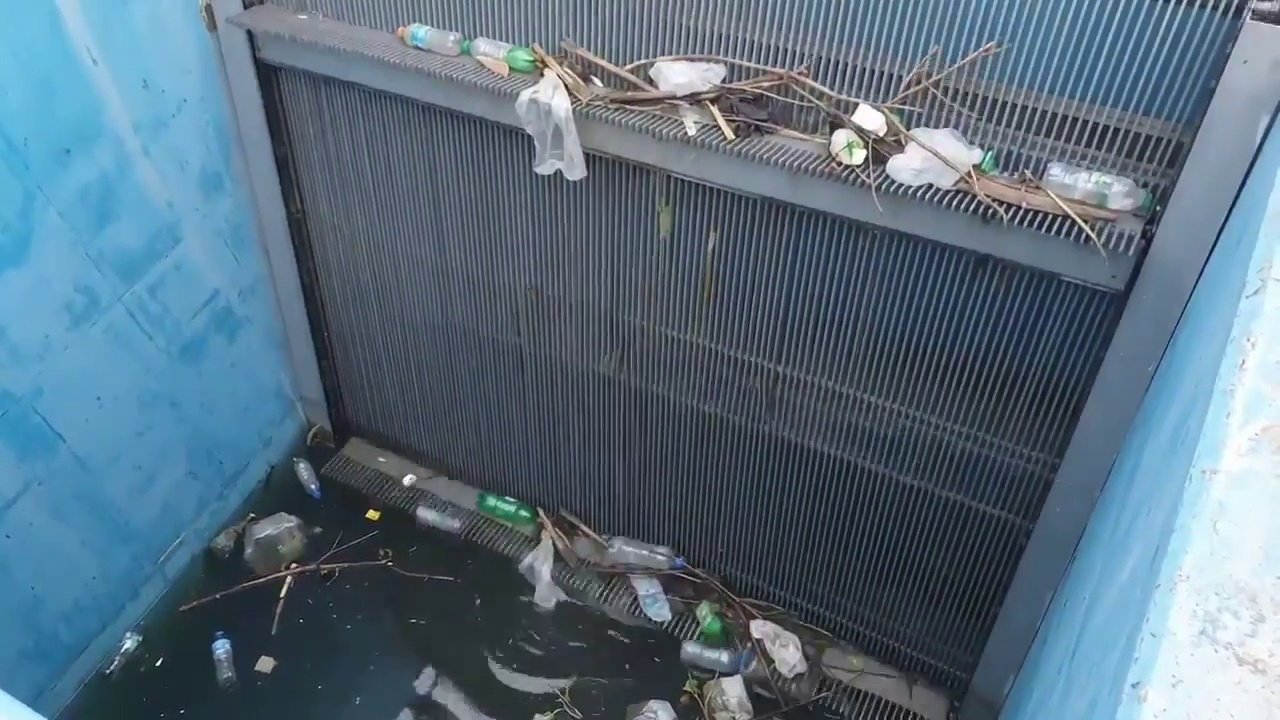debris: (532, 40, 1115, 227), (561, 510, 834, 712), (648, 562, 836, 719), (560, 510, 715, 611), (179, 557, 455, 611), (886, 114, 1006, 221), (623, 55, 861, 103), (658, 559, 784, 644), (809, 644, 947, 717), (957, 173, 1120, 227), (515, 69, 586, 180), (885, 41, 1002, 105), (1024, 171, 1105, 258), (885, 128, 982, 189), (809, 643, 913, 697), (1039, 161, 1149, 212), (898, 46, 972, 116), (561, 40, 655, 90), (690, 567, 760, 627), (414, 669, 491, 719), (245, 513, 307, 574), (486, 653, 574, 694), (530, 43, 592, 101), (749, 618, 807, 678), (519, 531, 564, 607), (741, 660, 822, 702), (709, 94, 785, 136), (649, 61, 726, 96), (605, 536, 684, 569), (744, 634, 784, 699), (462, 37, 536, 72), (680, 640, 753, 673), (661, 572, 717, 613), (537, 508, 577, 565), (752, 691, 831, 719), (703, 676, 753, 719), (476, 492, 537, 527), (397, 23, 462, 55), (209, 514, 255, 559), (628, 575, 671, 622), (317, 531, 377, 563), (900, 46, 941, 91), (560, 509, 606, 549), (698, 228, 717, 323), (534, 682, 582, 719), (819, 646, 866, 683), (104, 631, 142, 675), (271, 575, 296, 636), (828, 128, 867, 165), (211, 631, 236, 688), (414, 503, 461, 533), (855, 166, 883, 211), (704, 102, 736, 141), (851, 103, 888, 136), (695, 600, 723, 642), (292, 457, 320, 499), (208, 525, 242, 559), (676, 104, 710, 136), (572, 534, 606, 564), (681, 674, 704, 717), (627, 700, 676, 719), (412, 665, 440, 696), (555, 687, 582, 719), (657, 192, 673, 243), (742, 598, 784, 615), (304, 424, 333, 447), (476, 57, 510, 76), (977, 150, 999, 175), (253, 655, 277, 673), (402, 473, 417, 487), (365, 508, 381, 521), (532, 711, 556, 719), (588, 75, 602, 87), (308, 525, 323, 536), (377, 548, 391, 559), (153, 656, 163, 667), (407, 618, 424, 623), (376, 456, 387, 463), (355, 695, 360, 703)
